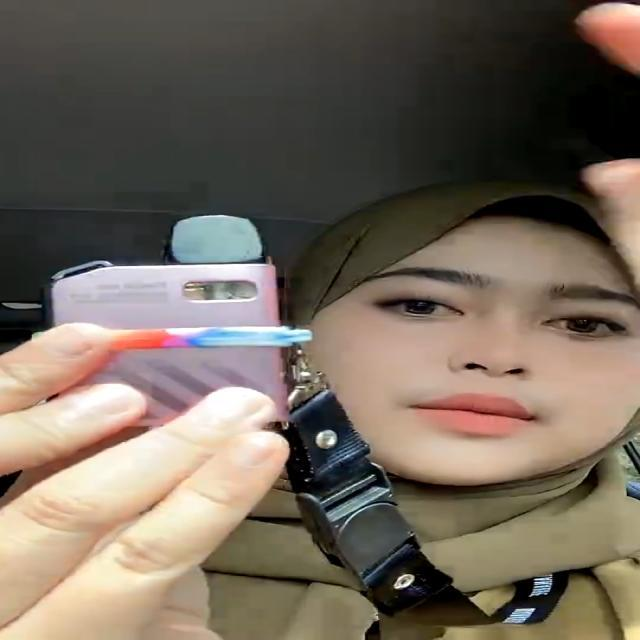Hazard: (44, 212, 288, 422)
